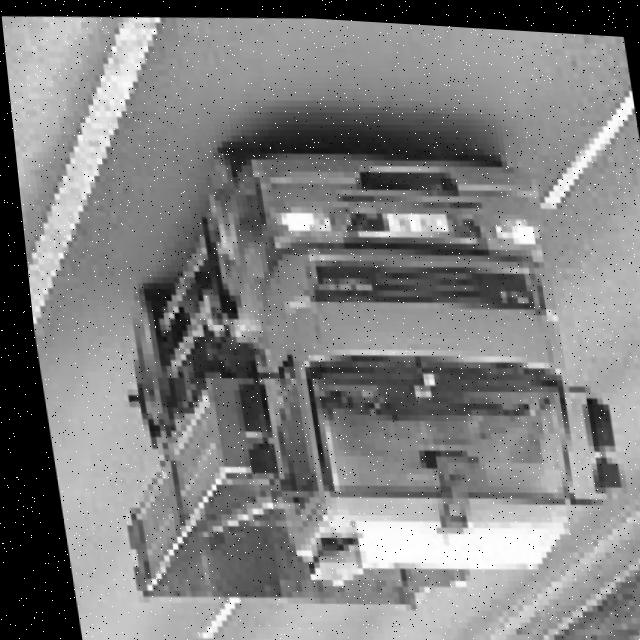truck: (189, 126, 629, 606)
